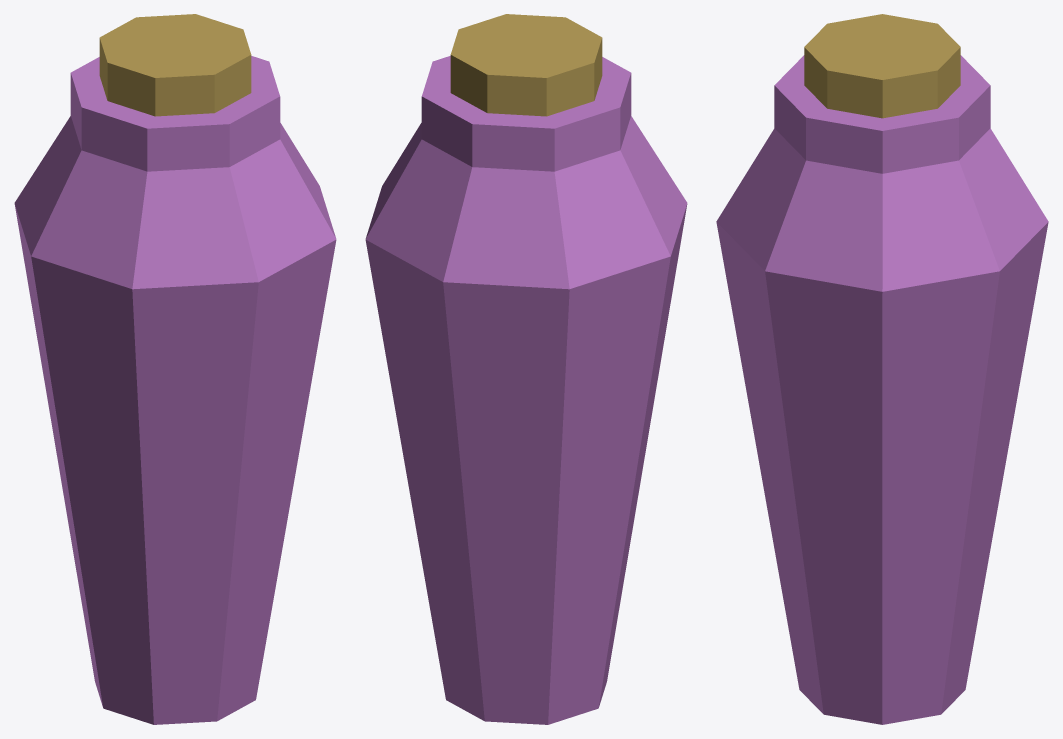
File: Buff_potion.fbx
3 renders of one model, left to right at view 1: azimuth 30°, elevation 25°; view 2: azimuth 150°, elevation 25°; view 3: azimuth 270°, elevation 25°, orthographic.
Visible parts, largest first — view 1: Buff_potion; view 2: Buff_potion; view 3: Buff_potion.
Part boxes in pixels (box(x1,y1,x2,y2)): Buff_potion: box(14, 14, 336, 724); Buff_potion: box(365, 14, 687, 724); Buff_potion: box(716, 14, 1048, 724).
Bounding box in the file's own units: 308 × 658 × 308.
